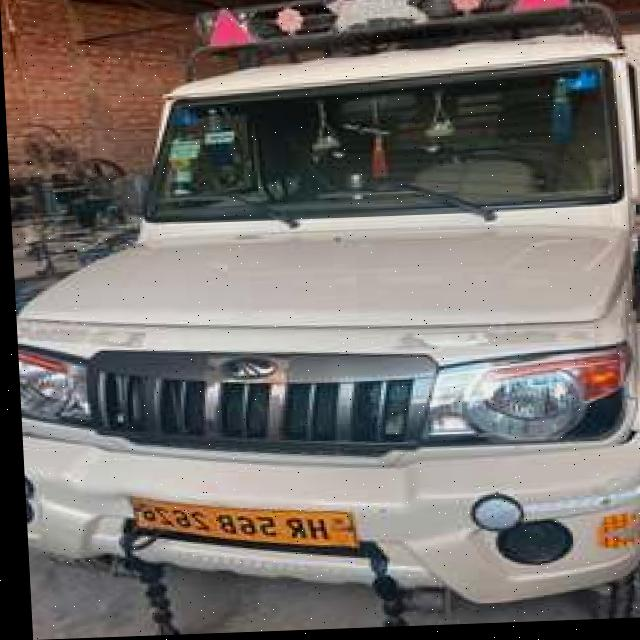plate: (122, 487, 354, 557)
